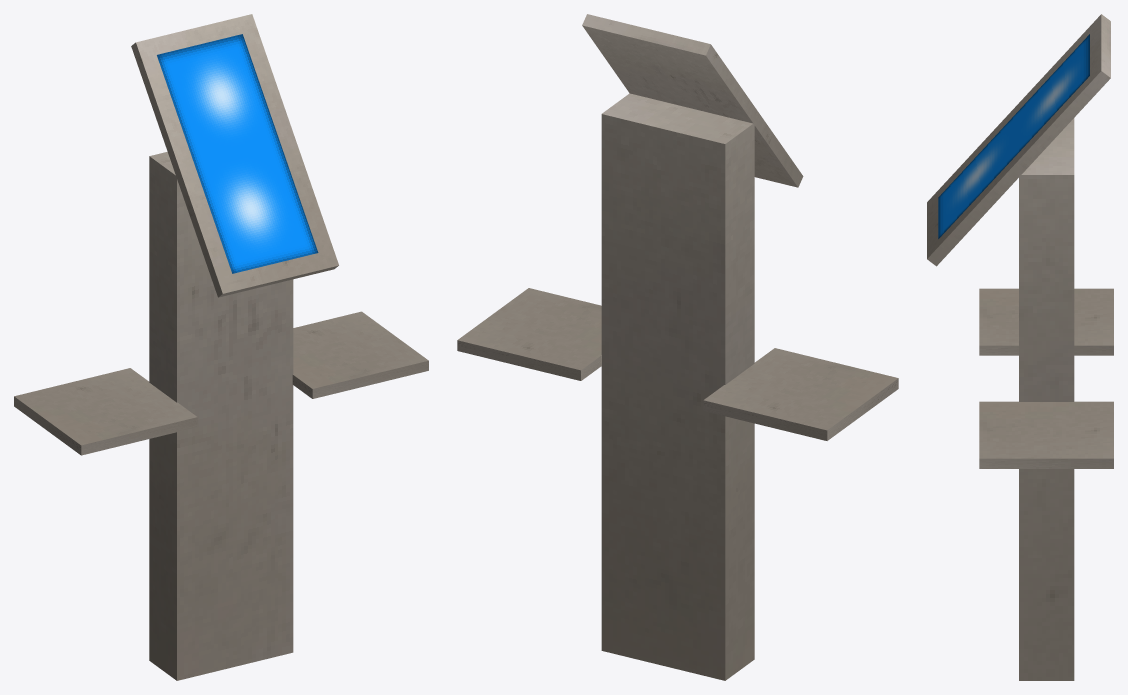
The model's file is KSO.glb.
3 renders of one model, left to right at view 1: azimuth 30°, elevation 25°; view 2: azimuth 150°, elevation 25°; view 3: azimuth 270°, elevation 25°, orthographic. The views are drawn at different scales.
Visible parts, largest first — view 1: Cube, Cube.001, Cube.003, Cube.002; view 2: Cube, Cube.001, Cube.003, Cube.002; view 3: Cube, Cube.001, Cube.002, Cube.003.
Part boxes in pixels (x1=…): Cube: x1=149, y1=152, x2=293, y2=680; Cube.001: x1=131, y1=14, x2=338, y2=297; Cube.003: x1=14, y1=368, x2=197, y2=455; Cube.002: x1=292, y1=311, x2=428, y2=398; Cube: x1=601, y1=93, x2=754, y2=680; Cube.001: x1=582, y1=14, x2=803, y2=187; Cube.003: x1=703, y1=348, x2=898, y2=440; Cube.002: x1=457, y1=288, x2=601, y2=380; Cube: x1=1019, y1=118, x2=1074, y2=680; Cube.001: x1=927, y1=14, x2=1110, y2=266; Cube.002: x1=979, y1=401, x2=1113, y2=468; Cube.003: x1=979, y1=288, x2=1113, y2=355.
Size of the model in its own units: 5.98 by 9.99 by 2.78.
Materials: 2 (2 with a texture image).
